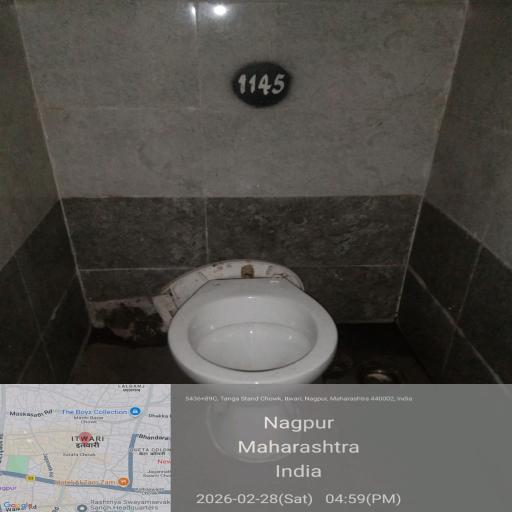clean_floor: (18, 4, 474, 129), (46, 125, 417, 258)
clean_western: (165, 274, 346, 376)
partial_dirty_floor: (6, 192, 158, 376), (418, 129, 512, 362)
